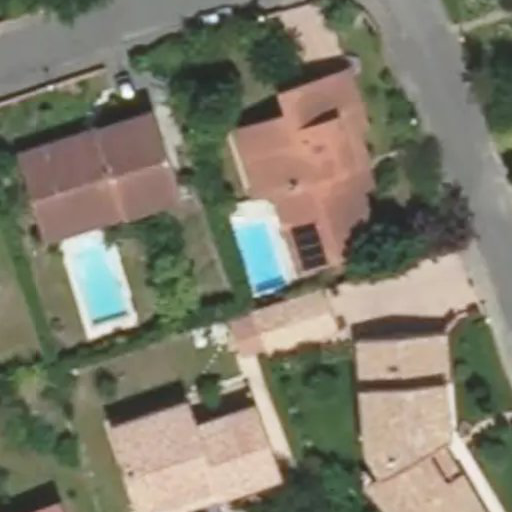pool: (228, 217, 283, 266)
